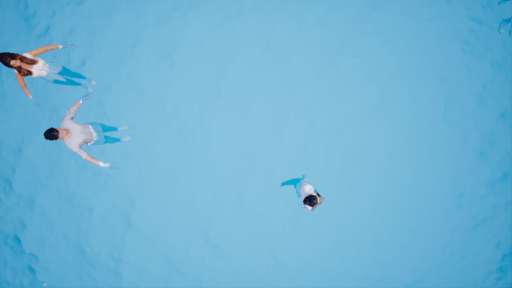person: (37, 100, 138, 167), (1, 33, 97, 95), (275, 163, 329, 218)
